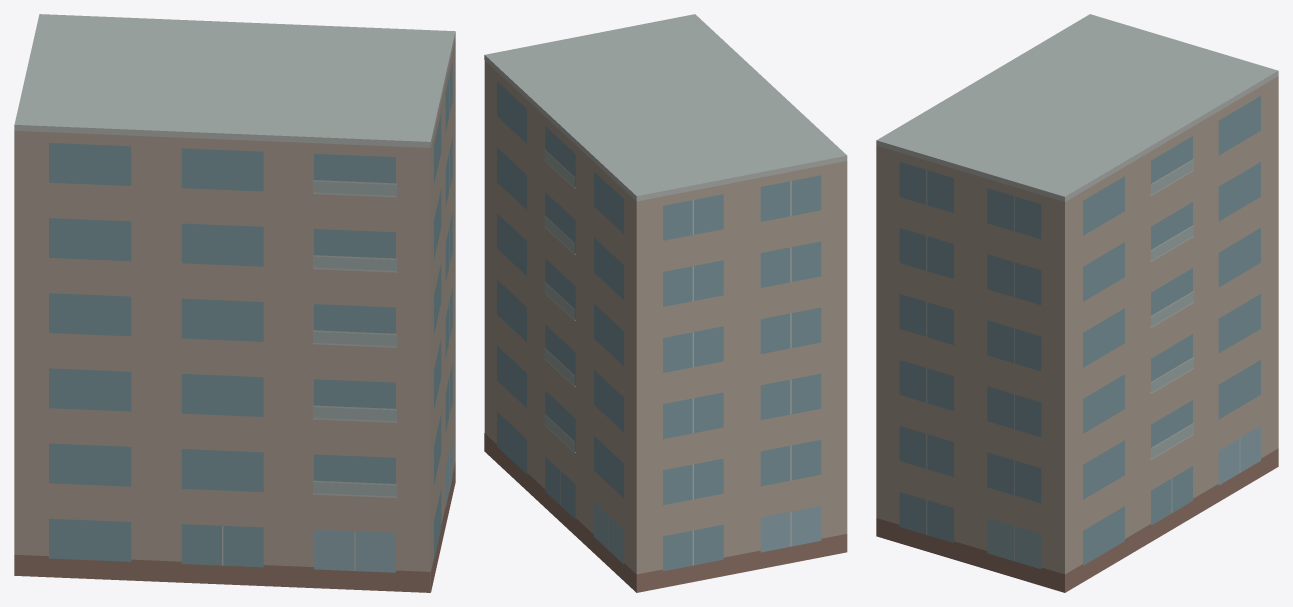
Rendered from survey-upis-32551067.glb.
The picture shows the model from 3 angles, left to right: view 1: azimuth 30°, elevation 25°; view 2: azimuth 150°, elevation 25°; view 3: azimuth 270°, elevation 25°; orthographic projection. The views are drawn at different scales.
Visible parts, largest first — view 1: survey-upis-32551067.tmp; view 2: survey-upis-32551067.tmp; view 3: survey-upis-32551067.tmp.
Boxes of the visible parts, x1,y1,x2,y2 form: survey-upis-32551067.tmp: (14, 14, 455, 592); survey-upis-32551067.tmp: (484, 14, 847, 592); survey-upis-32551067.tmp: (876, 14, 1278, 592).
Size of the model in its own units: 18.13 by 18.3 by 16.85.
